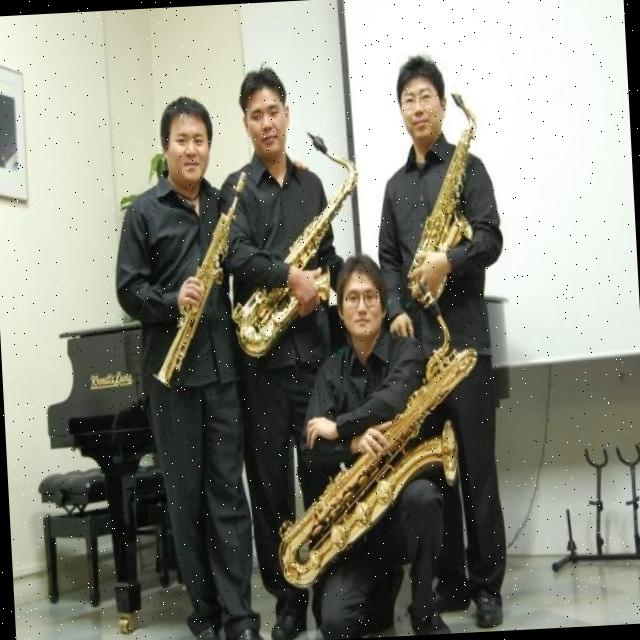saxophone: (261, 279, 488, 596), (222, 123, 371, 361), (398, 92, 489, 307)
